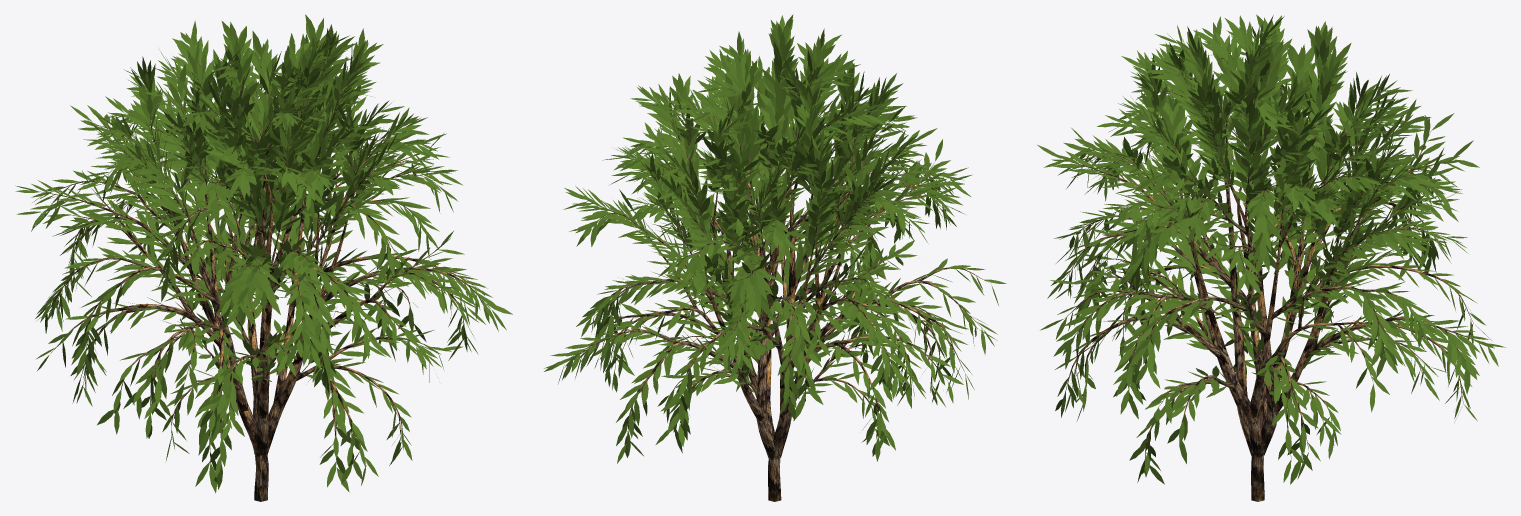
The model's file is simple-tree.glb.
The picture shows the model from 3 angles, left to right: view 1: azimuth 30°, elevation 25°; view 2: azimuth 150°, elevation 25°; view 3: azimuth 270°, elevation 25°; orthographic projection. The views are drawn at different scales.
Visible parts, largest first — view 1: leaves, tree; view 2: leaves, tree; view 3: leaves, tree.
Part boxes in pixels (left/top/right/bottom): leaves: left=15, top=14, right=512, bottom=493; tree: left=40, top=52, right=490, bottom=501; leaves: left=544, top=14, right=1006, bottom=463; tree: left=565, top=55, right=990, bottom=501; leaves: left=1037, top=14, right=1505, bottom=484; tree: left=1063, top=39, right=1474, bottom=501.
Size of the model in its own units: 5.78 by 6.82 by 6.05.
Materials: 2 (1 with a texture image).
